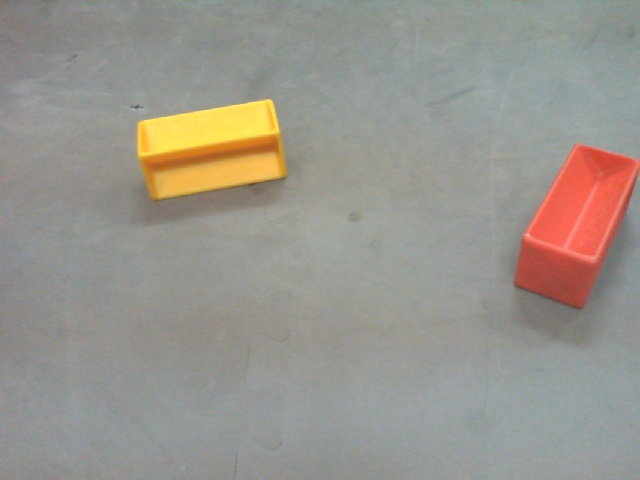RedSample: (515, 137, 640, 311)
YellowSample: (134, 95, 288, 198)
